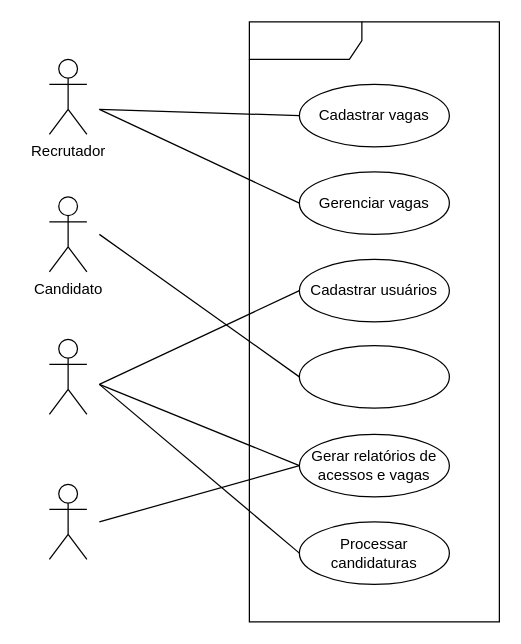
Some shapes in this 521 by 644 pixel diagram are drawn without their labels. The box of each missing label's shape, as (x1, y1, x2, y2) in pixels:
Administrador: (48, 483, 87, 559)
Realizar candidaturas: (298, 344, 449, 408)
Sistema: (48, 338, 87, 414)
VenturaHR: (248, 21, 499, 622)
